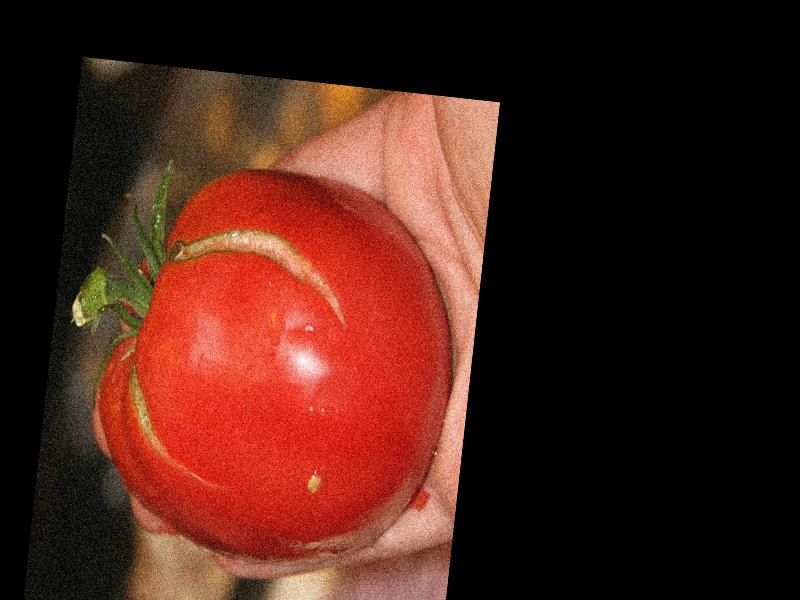Tomato: (83, 159, 470, 579)
